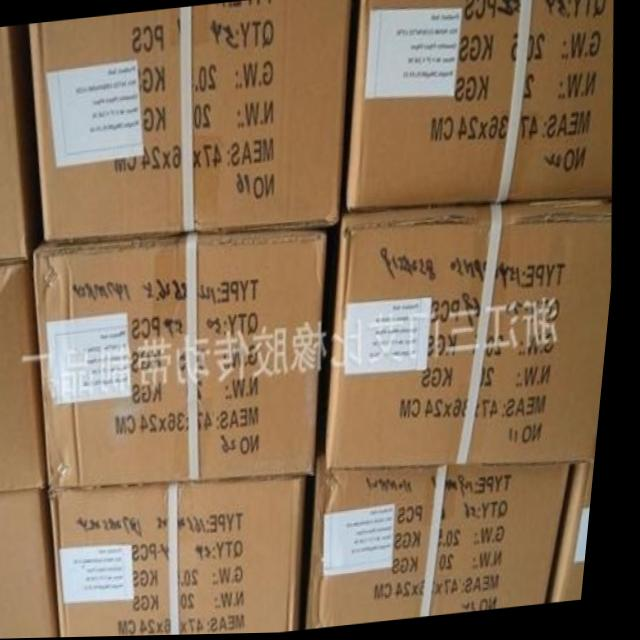box: (28, 0, 355, 245), (37, 232, 330, 490), (332, 206, 617, 471), (348, 0, 615, 212), (315, 452, 579, 629), (58, 477, 318, 638), (0, 261, 54, 494), (0, 28, 46, 263), (0, 494, 72, 639), (558, 433, 606, 603)
